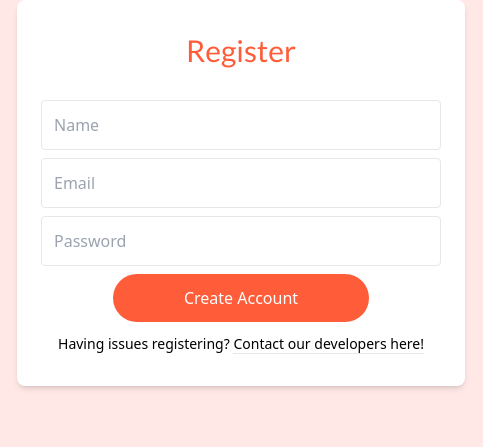
Test case: register card functionality › should throw error with invalid password
In the password field with test id "register-card-field-password": (241, 241) [41,216,441,266], type "password123!"
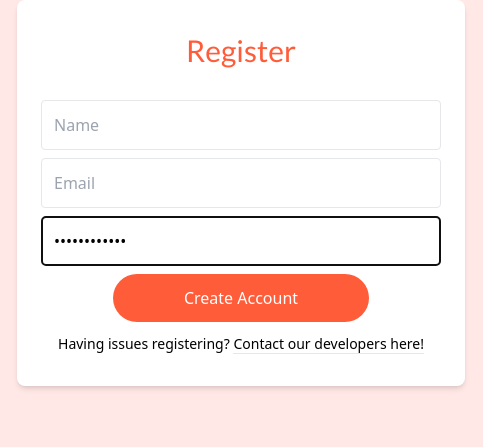
Press Tab
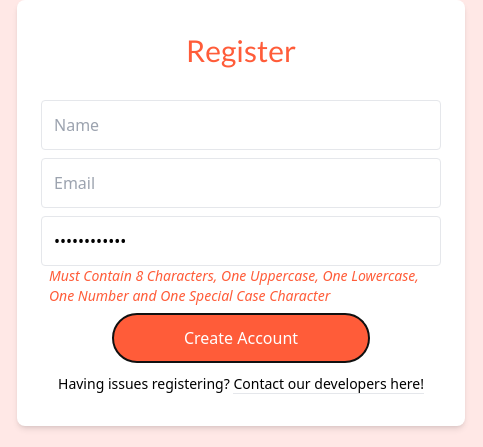
Expected: the text "Must Contain 8 Characters, One Uppercase, One Lowercase, One Number and One Special Case Character" is shown, [49,266,419,305]
